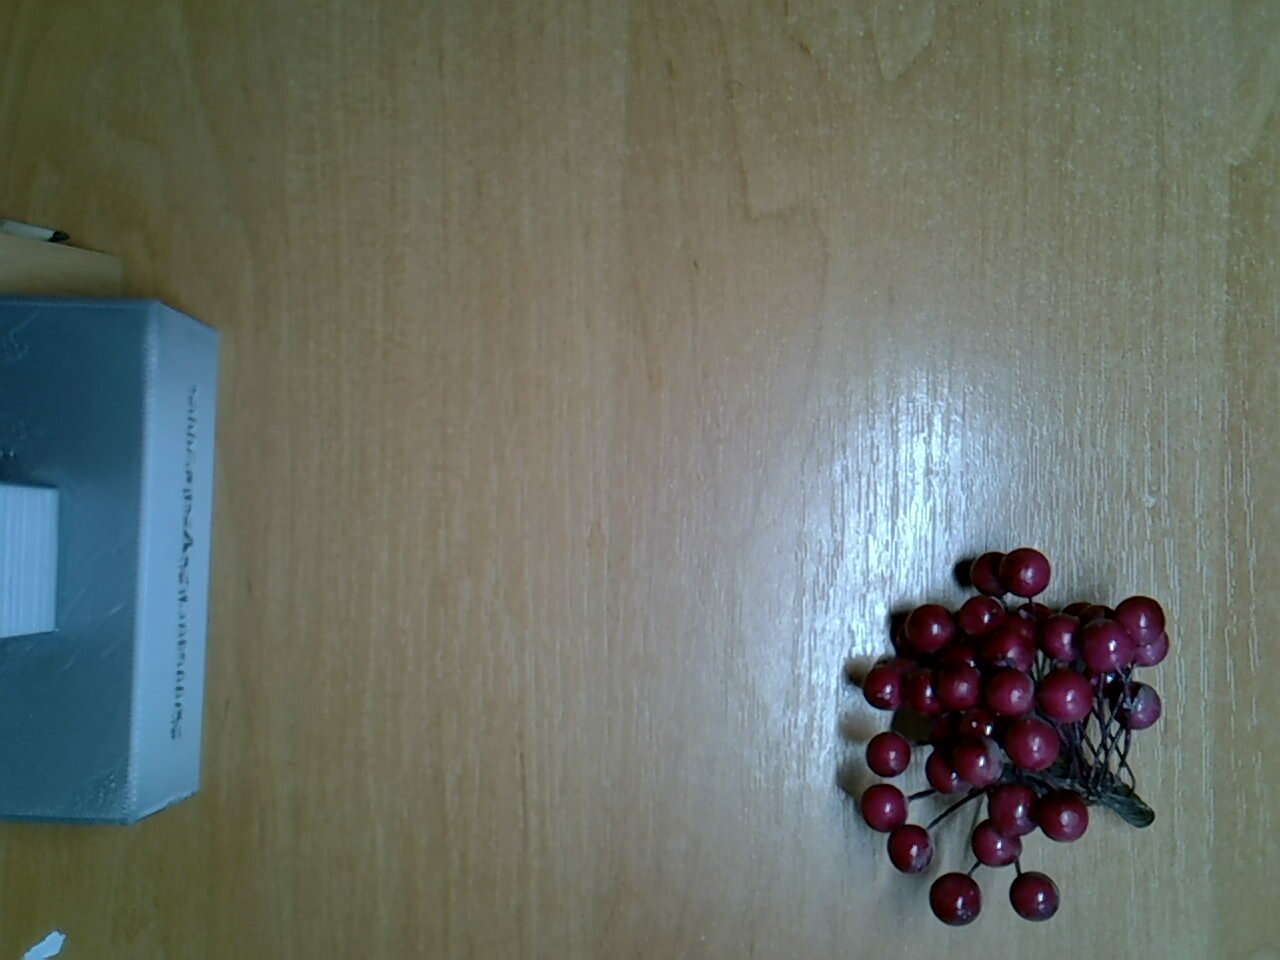berries: (824, 528, 1177, 930)
